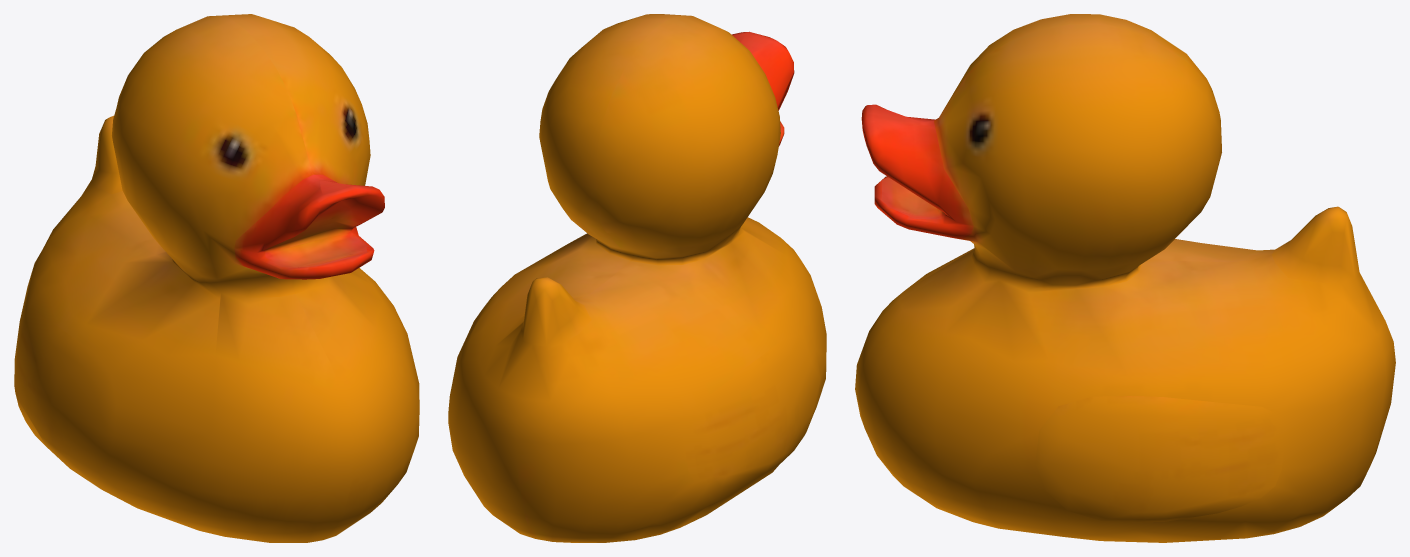
Rendered from duck.glb.
The picture shows the model from 3 angles, left to right: view 1: azimuth 30°, elevation 25°; view 2: azimuth 150°, elevation 25°; view 3: azimuth 270°, elevation 25°; orthographic projection. The views are drawn at different scales.
Parts seen in each view (by area): view 1: rubber_duck_toy; view 2: rubber_duck_toy; view 3: rubber_duck_toy.
Boxes of the visible parts, <box> form: rubber_duck_toy: <box>14,14,419,542</box>; rubber_duck_toy: <box>448,14,826,542</box>; rubber_duck_toy: <box>855,14,1395,542</box>.
Bounding box in the file's own units: 0.2135 × 0.2855 × 0.3.
Materials: 1 (1 with a texture image).
